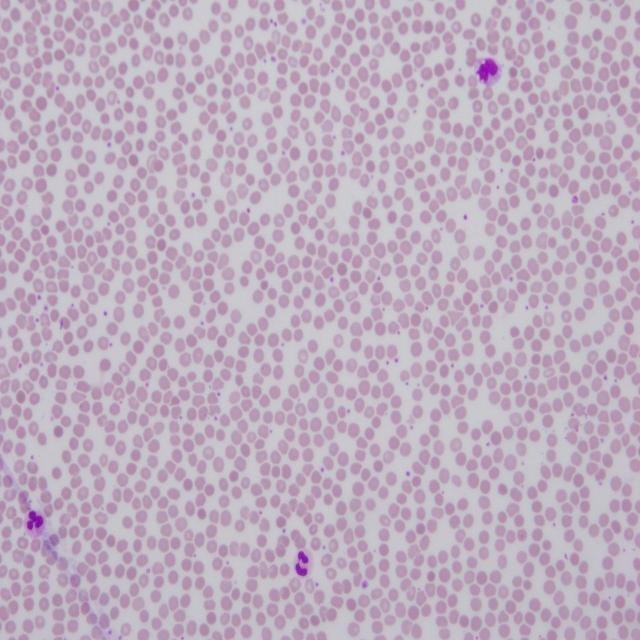cell: (475, 57, 502, 86), (24, 509, 45, 537), (294, 550, 312, 577)
